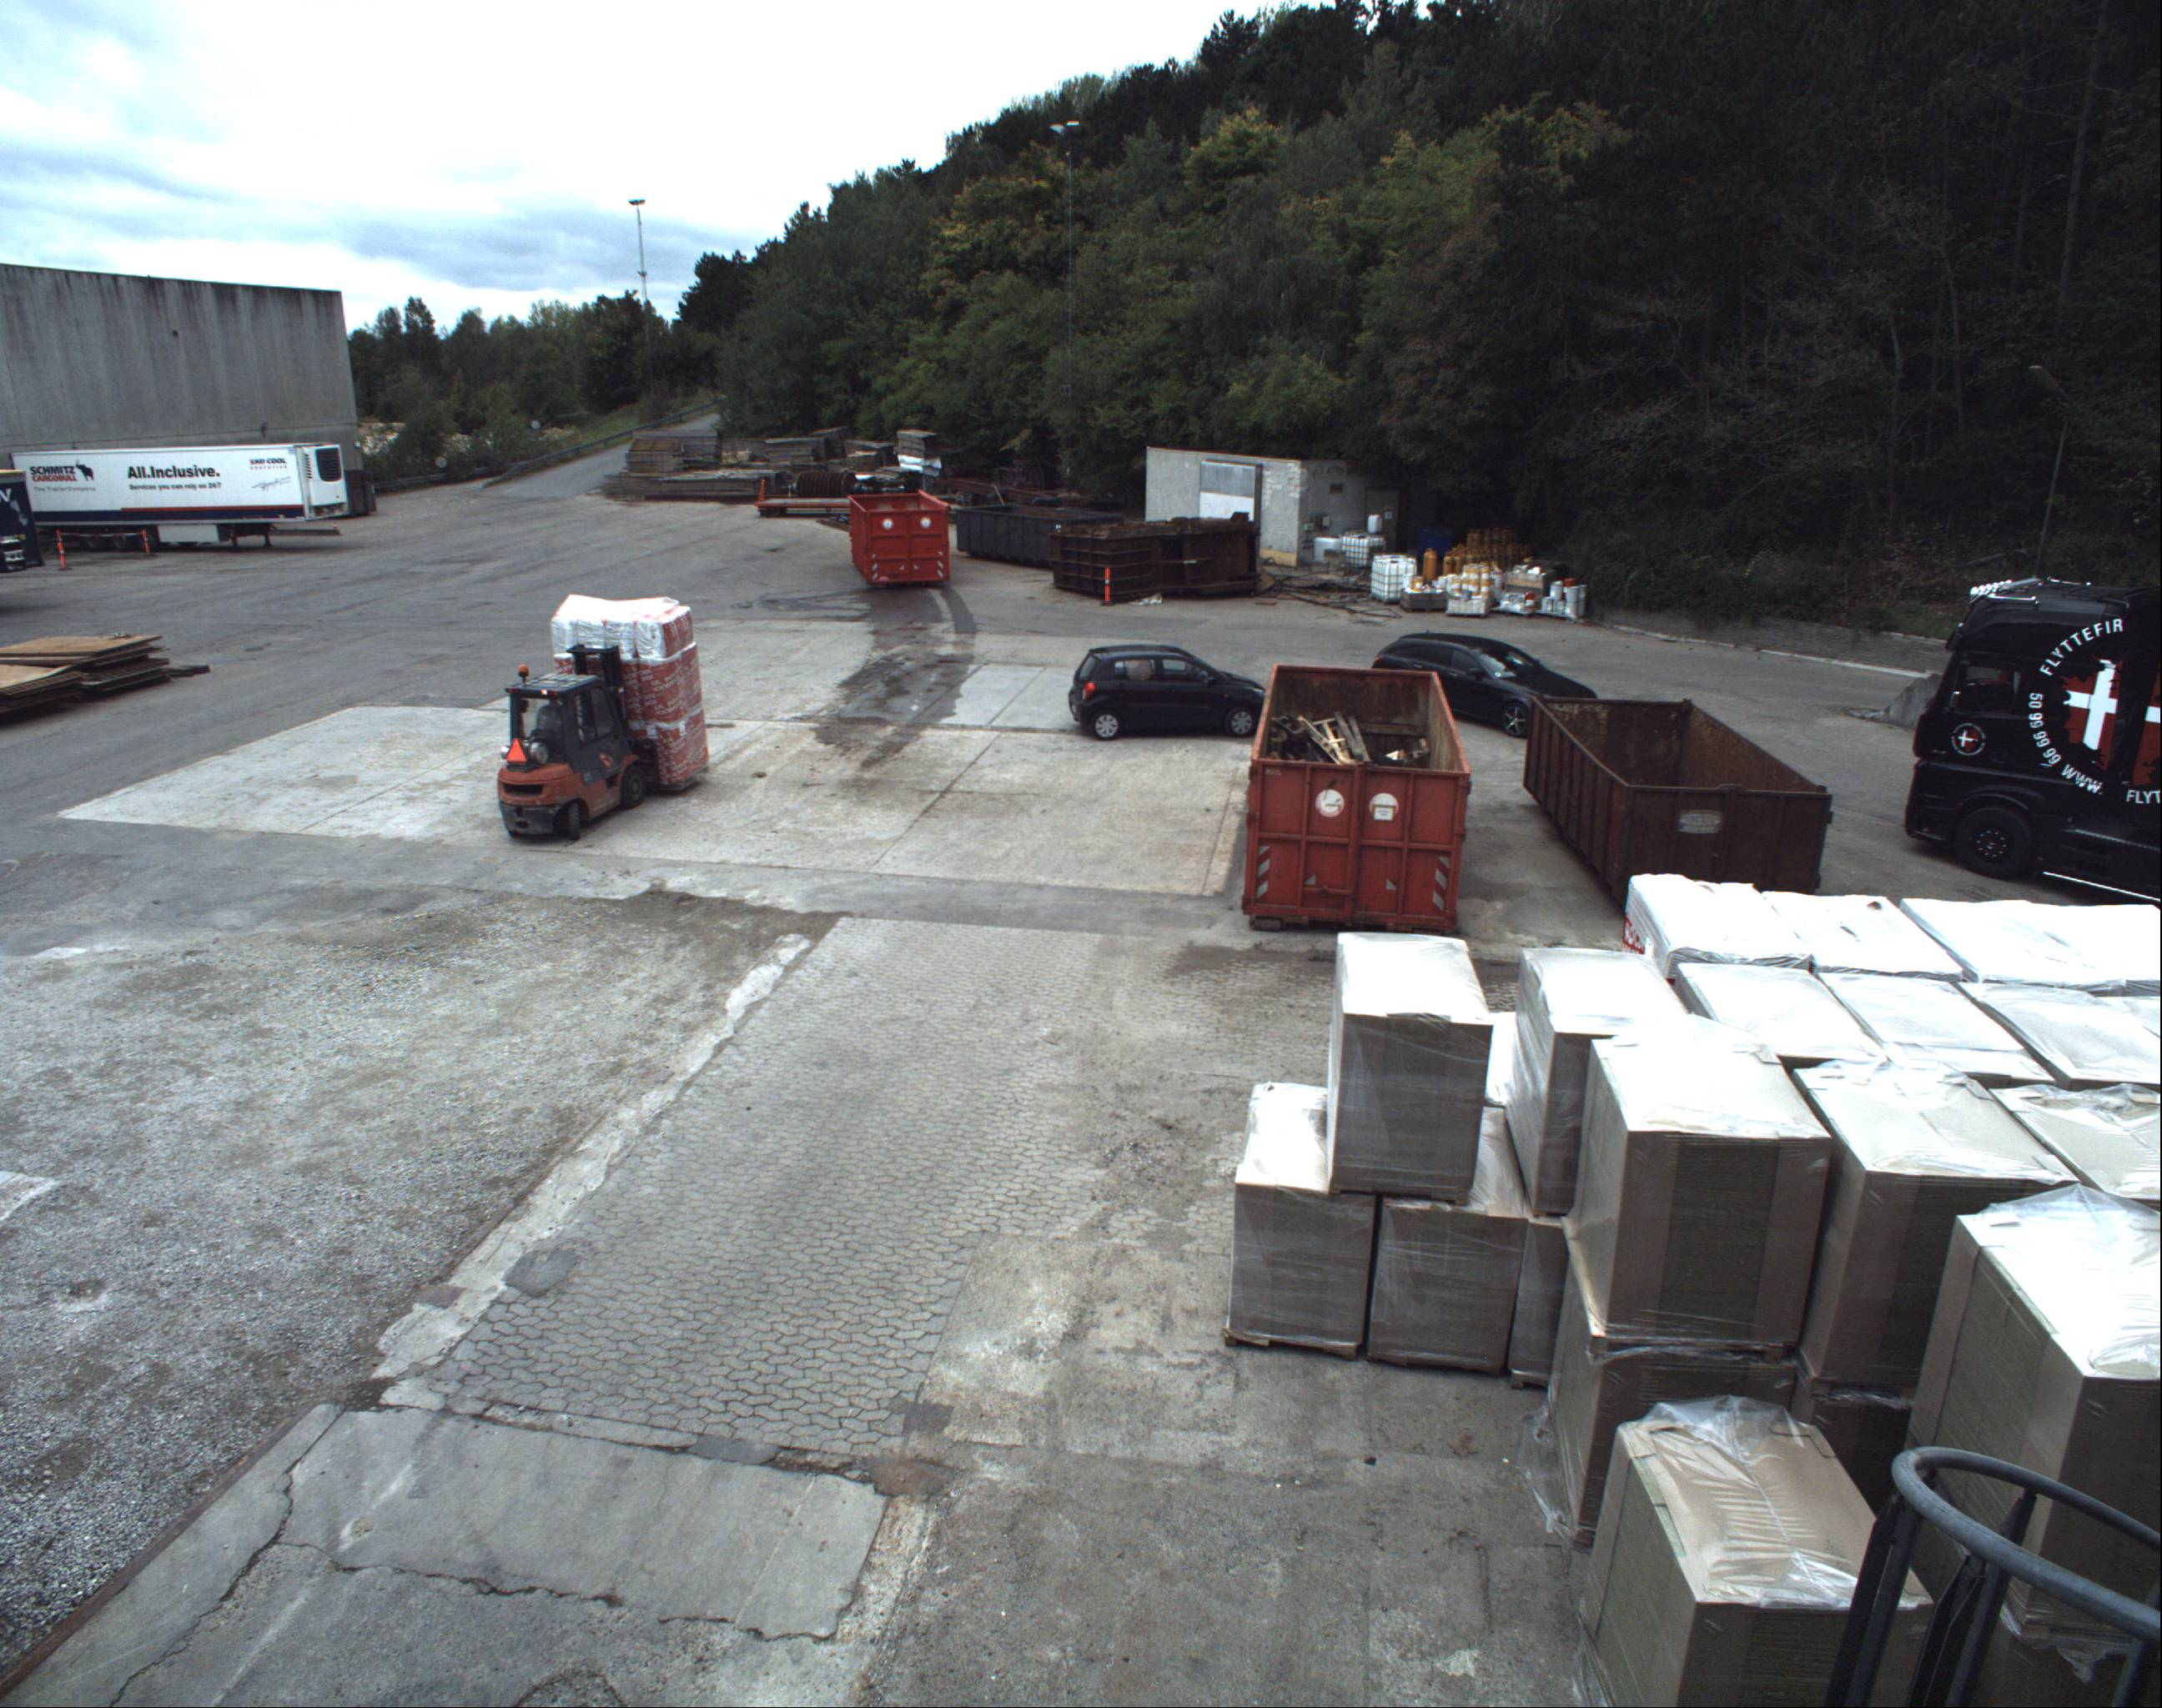rockwool_batts: (542, 586, 714, 790)
